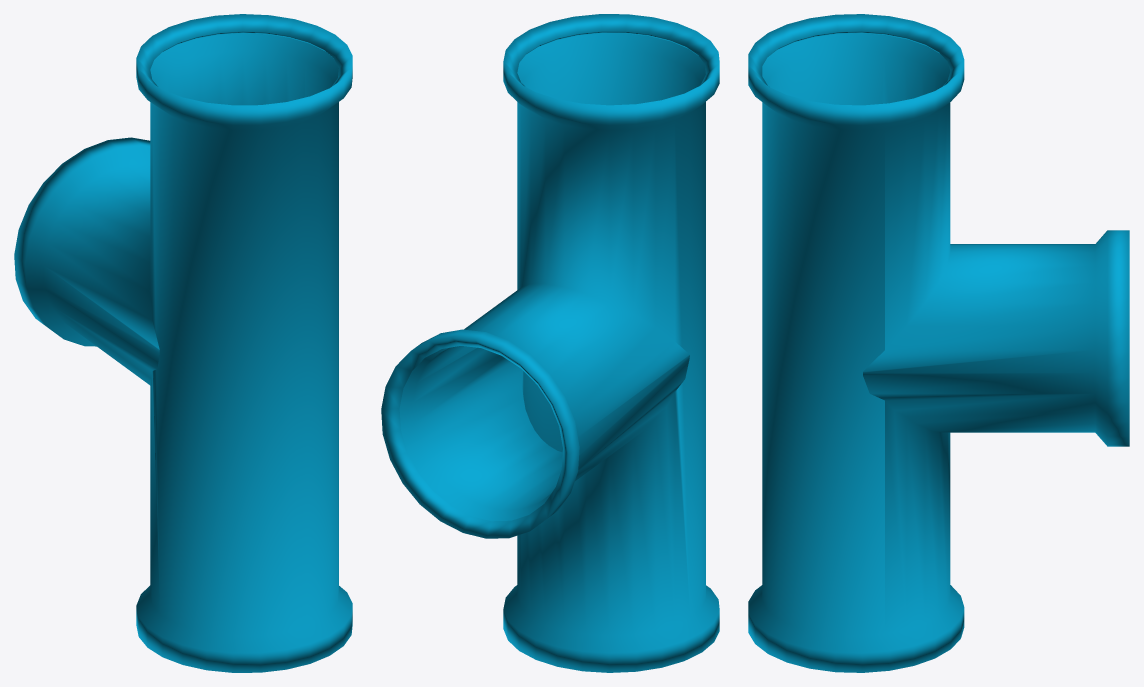
The model's file is pipe_0.fbx.
3 renders of one model, left to right at view 1: azimuth 30°, elevation 25°; view 2: azimuth 150°, elevation 25°; view 3: azimuth 270°, elevation 25°, orthographic.
Visible parts, largest first — view 1: Cylinder.001; view 2: Cylinder.001; view 3: Cylinder.001.
Boxes of the visible parts, x1=… form: Cylinder.001: x1=14, y1=14, x2=352, y2=672; Cylinder.001: x1=381, y1=14, x2=719, y2=672; Cylinder.001: x1=748, y1=14, x2=1129, y2=672.
Size of the model in its own units: 45.8 by 133 by 80.68.
